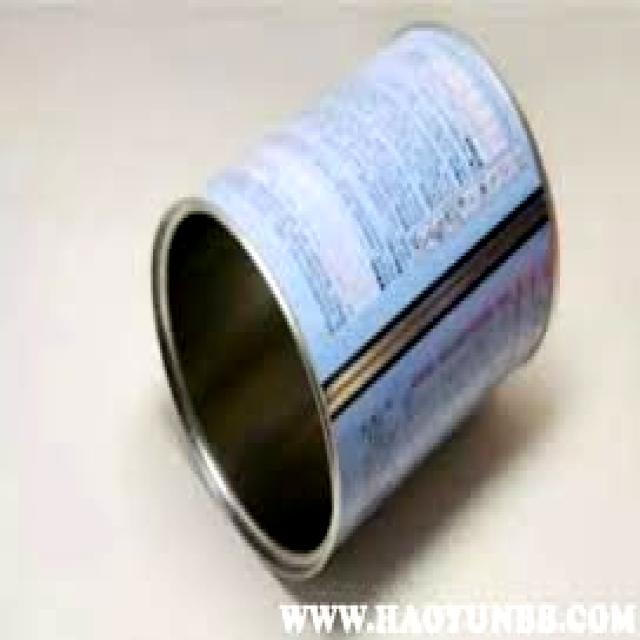Metal: (146, 8, 563, 593)
